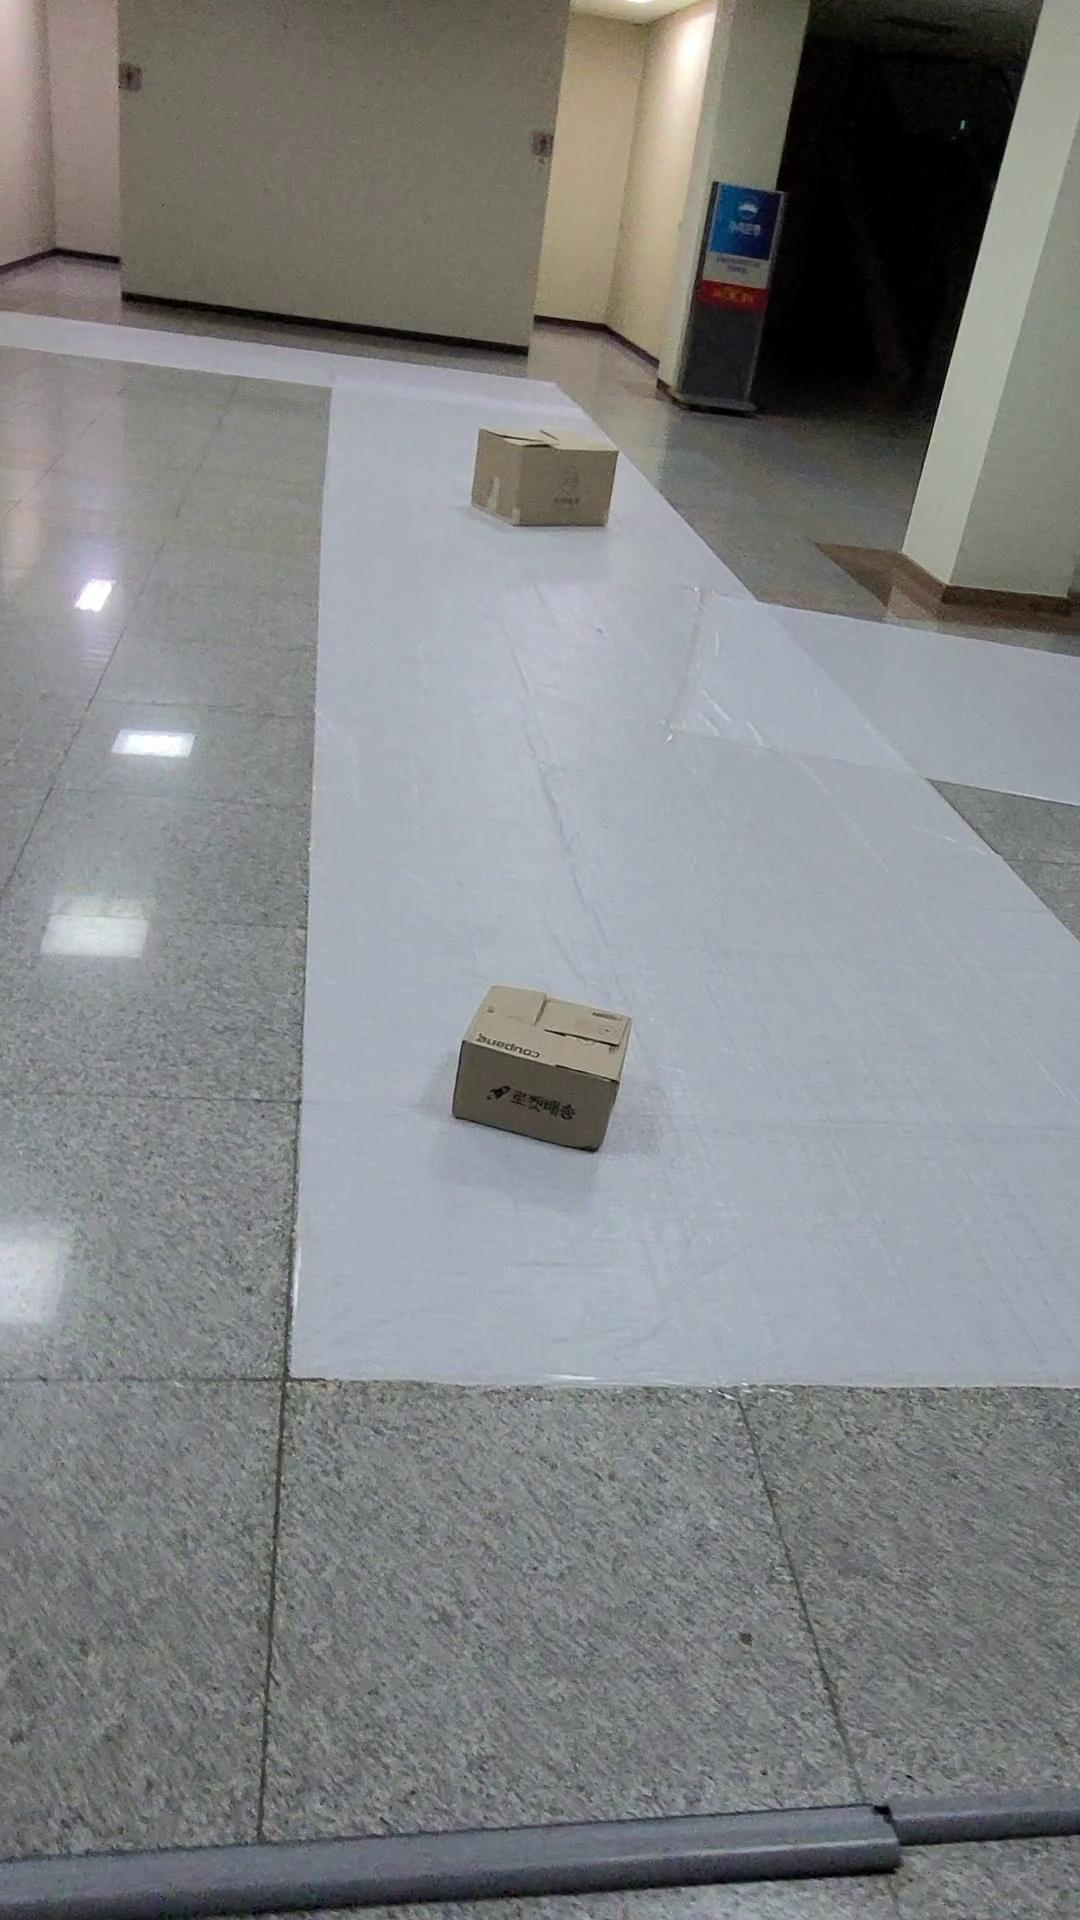Box: (443, 973, 650, 1149), (463, 410, 617, 545)
